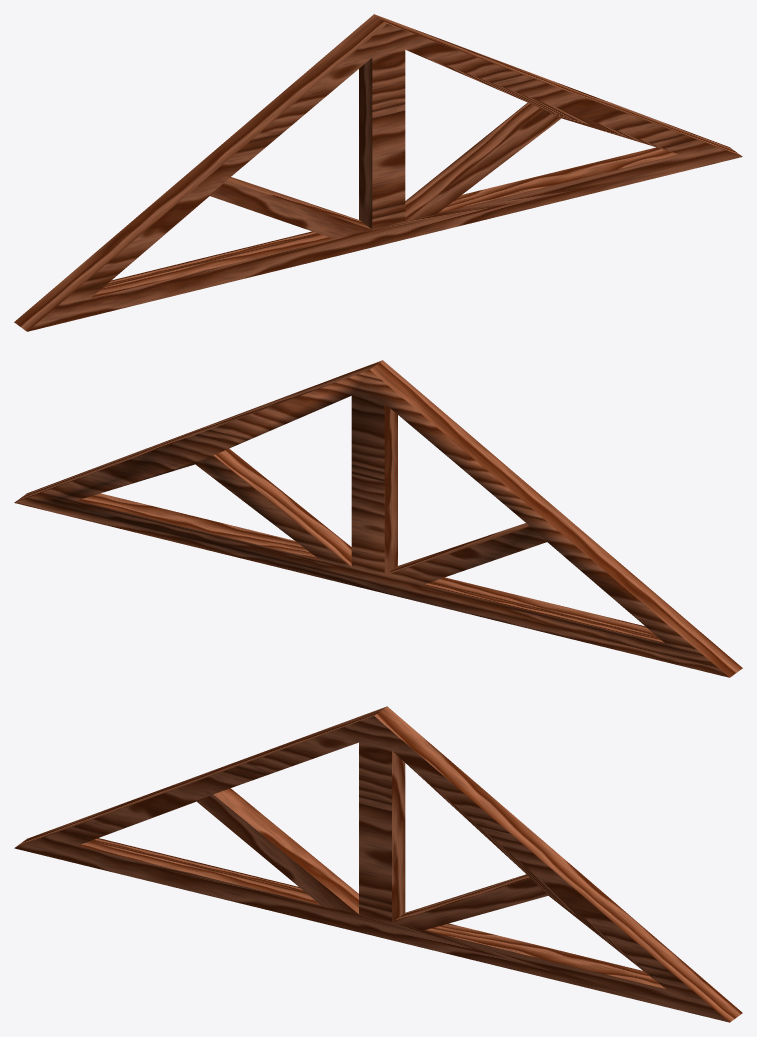
Rendered from Stropila.fbx.
3 views of the same model, one above another, from view 1: azimuth 30°, elevation 25°; view 2: azimuth 150°, elevation 25°; view 3: azimuth 330°, elevation 25° (orthographic).
Parts seen in each view (by area): view 1: Stropila; view 2: Stropila; view 3: Stropila.
Boxes of the visible parts, left/top/right/bottom form: Stropila: left=14, top=14, right=742, bottom=331; Stropila: left=14, top=360, right=742, bottom=677; Stropila: left=14, top=706, right=742, bottom=1022.
Size of the model in its own units: 1544 by 454 by 49.2.
